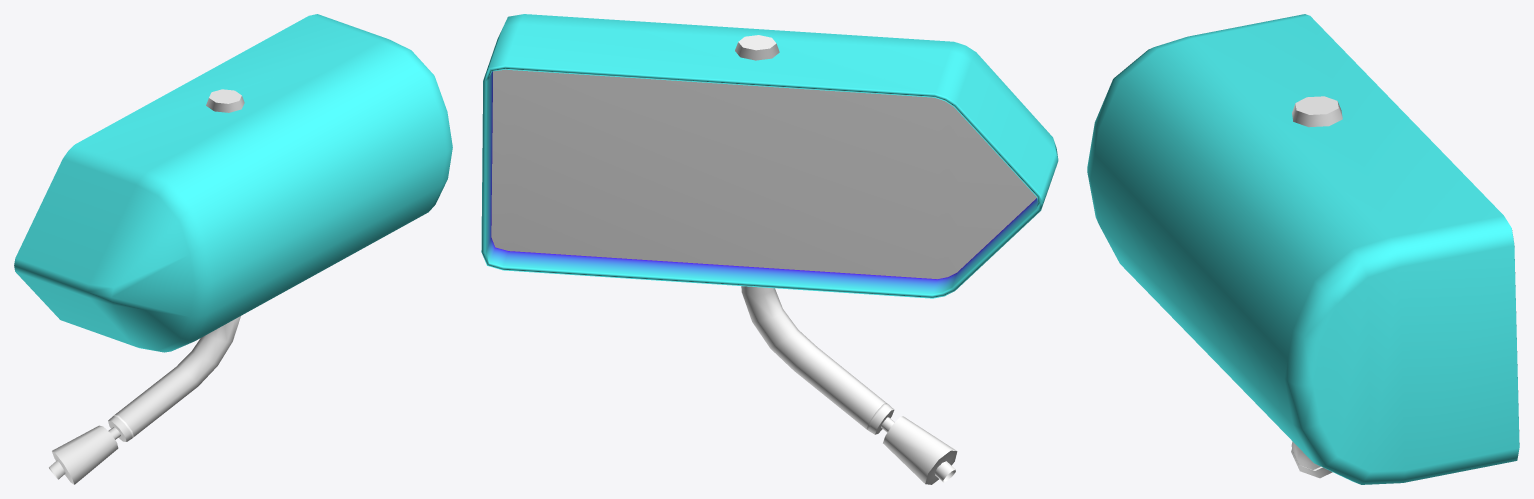
The model's file is Car_Ford_GT_2017_MirrorL_SetXT.fbx.
3 renders of one model, left to right at view 1: azimuth 30°, elevation 25°; view 2: azimuth 150°, elevation 25°; view 3: azimuth 270°, elevation 25°, orthographic. The views are drawn at different scales.
Visible parts, largest first — view 1: MirrorL 6; view 2: MirrorL 6; view 3: MirrorL 6.
Boxes of the visible parts, x1,y1,x2,y2 form: MirrorL 6: [14, 14, 452, 484]; MirrorL 6: [481, 14, 1058, 484]; MirrorL 6: [1087, 14, 1519, 484].
Size of the model in its own units: 0.1898 by 0.1407 by 0.116.
